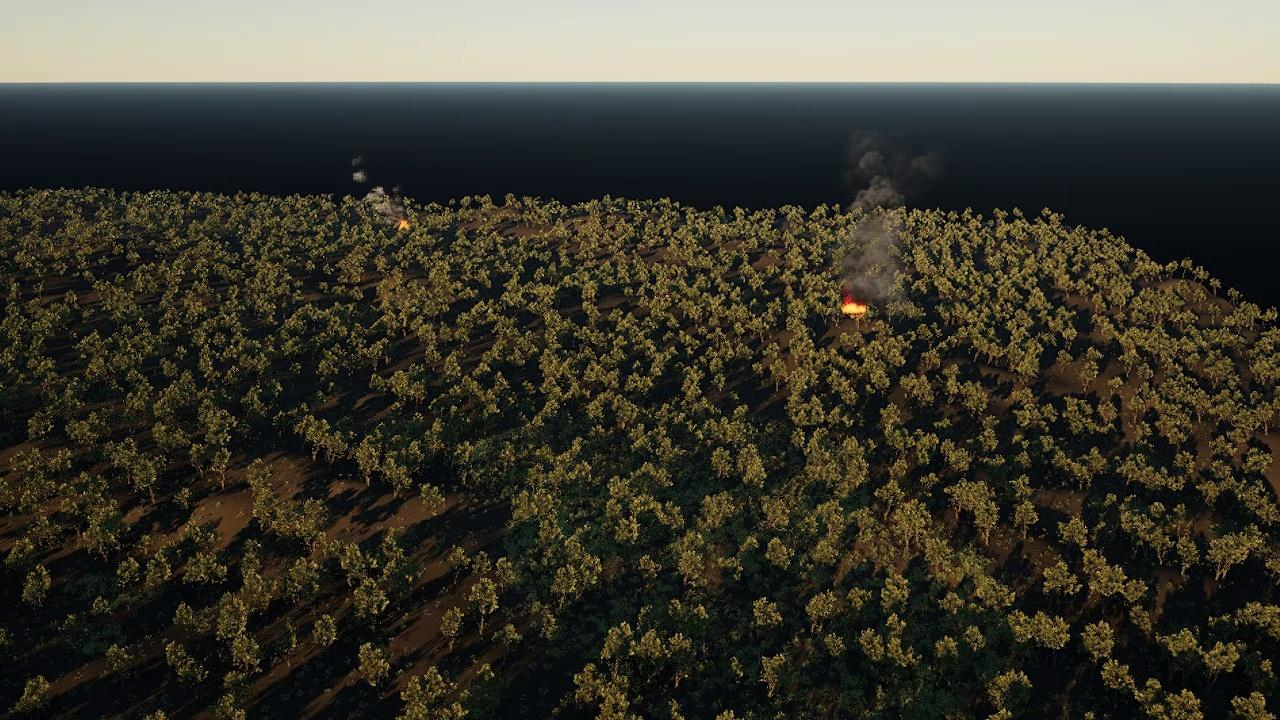fire: (841, 299, 868, 317), (398, 217, 412, 229)
smoke: (838, 128, 942, 205), (835, 205, 916, 300), (350, 156, 404, 224)
